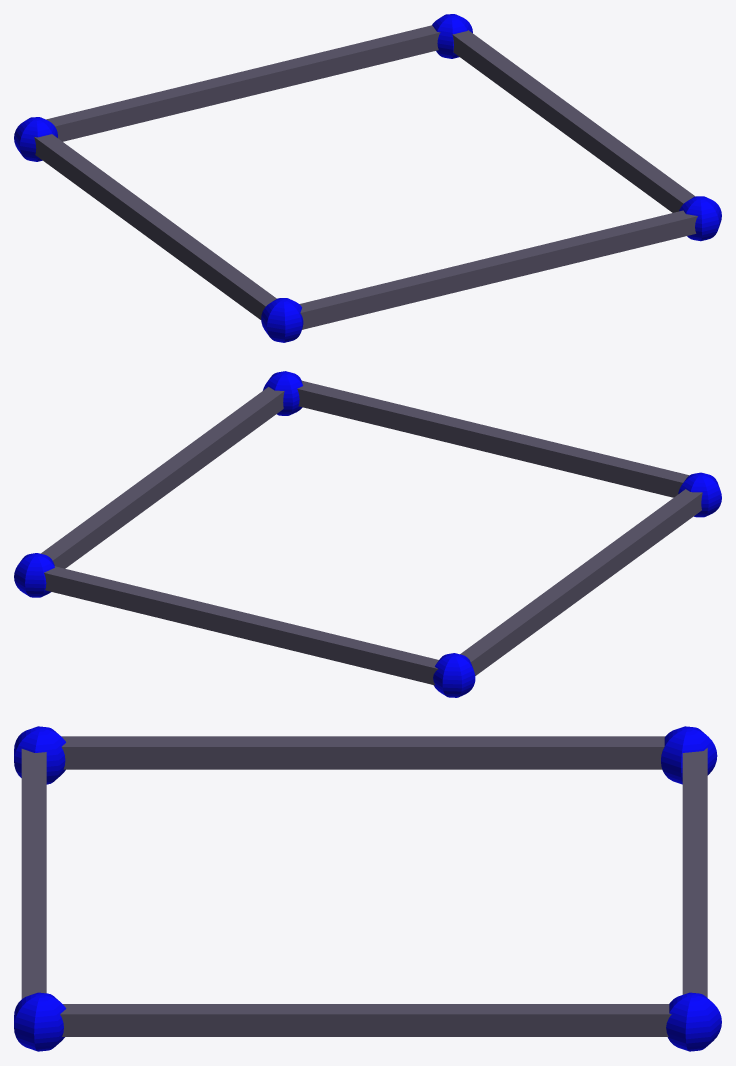
File: RotateFloorFrame.obj
3 views of the same model, one above another, from view 1: azimuth 30°, elevation 25°; view 2: azimuth 150°, elevation 25°; view 3: azimuth 270°, elevation 25° (orthographic). The views are drawn at different scales.
Visible parts, largest first — view 1: 球.001; view 2: 球.001; view 3: 球.001.
Boxes of the visible parts, x1=… form: 球.001: x1=14, y1=14, x2=721, y2=342; 球.001: x1=14, y1=371, x2=721, y2=697; 球.001: x1=14, y1=726, x2=721, y2=1051.
Bounding box in the file's own units: 9.86 × 0.8509 × 10.15.
